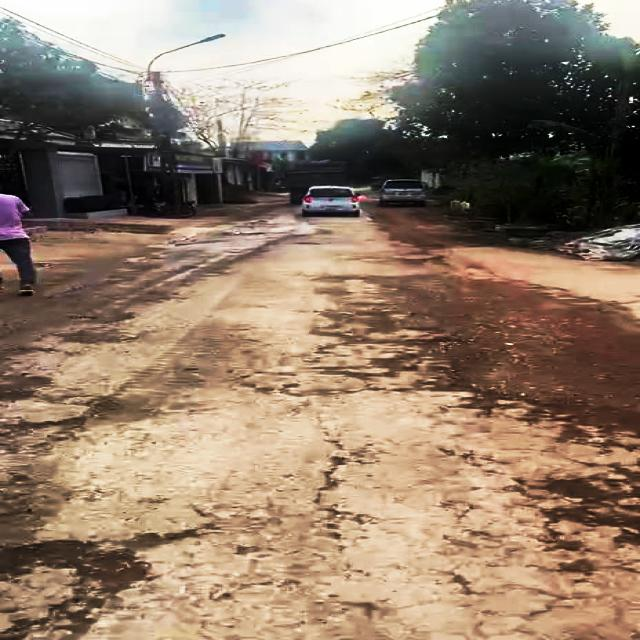pothole: (0, 533, 161, 640), (538, 468, 640, 555), (0, 392, 119, 440)
